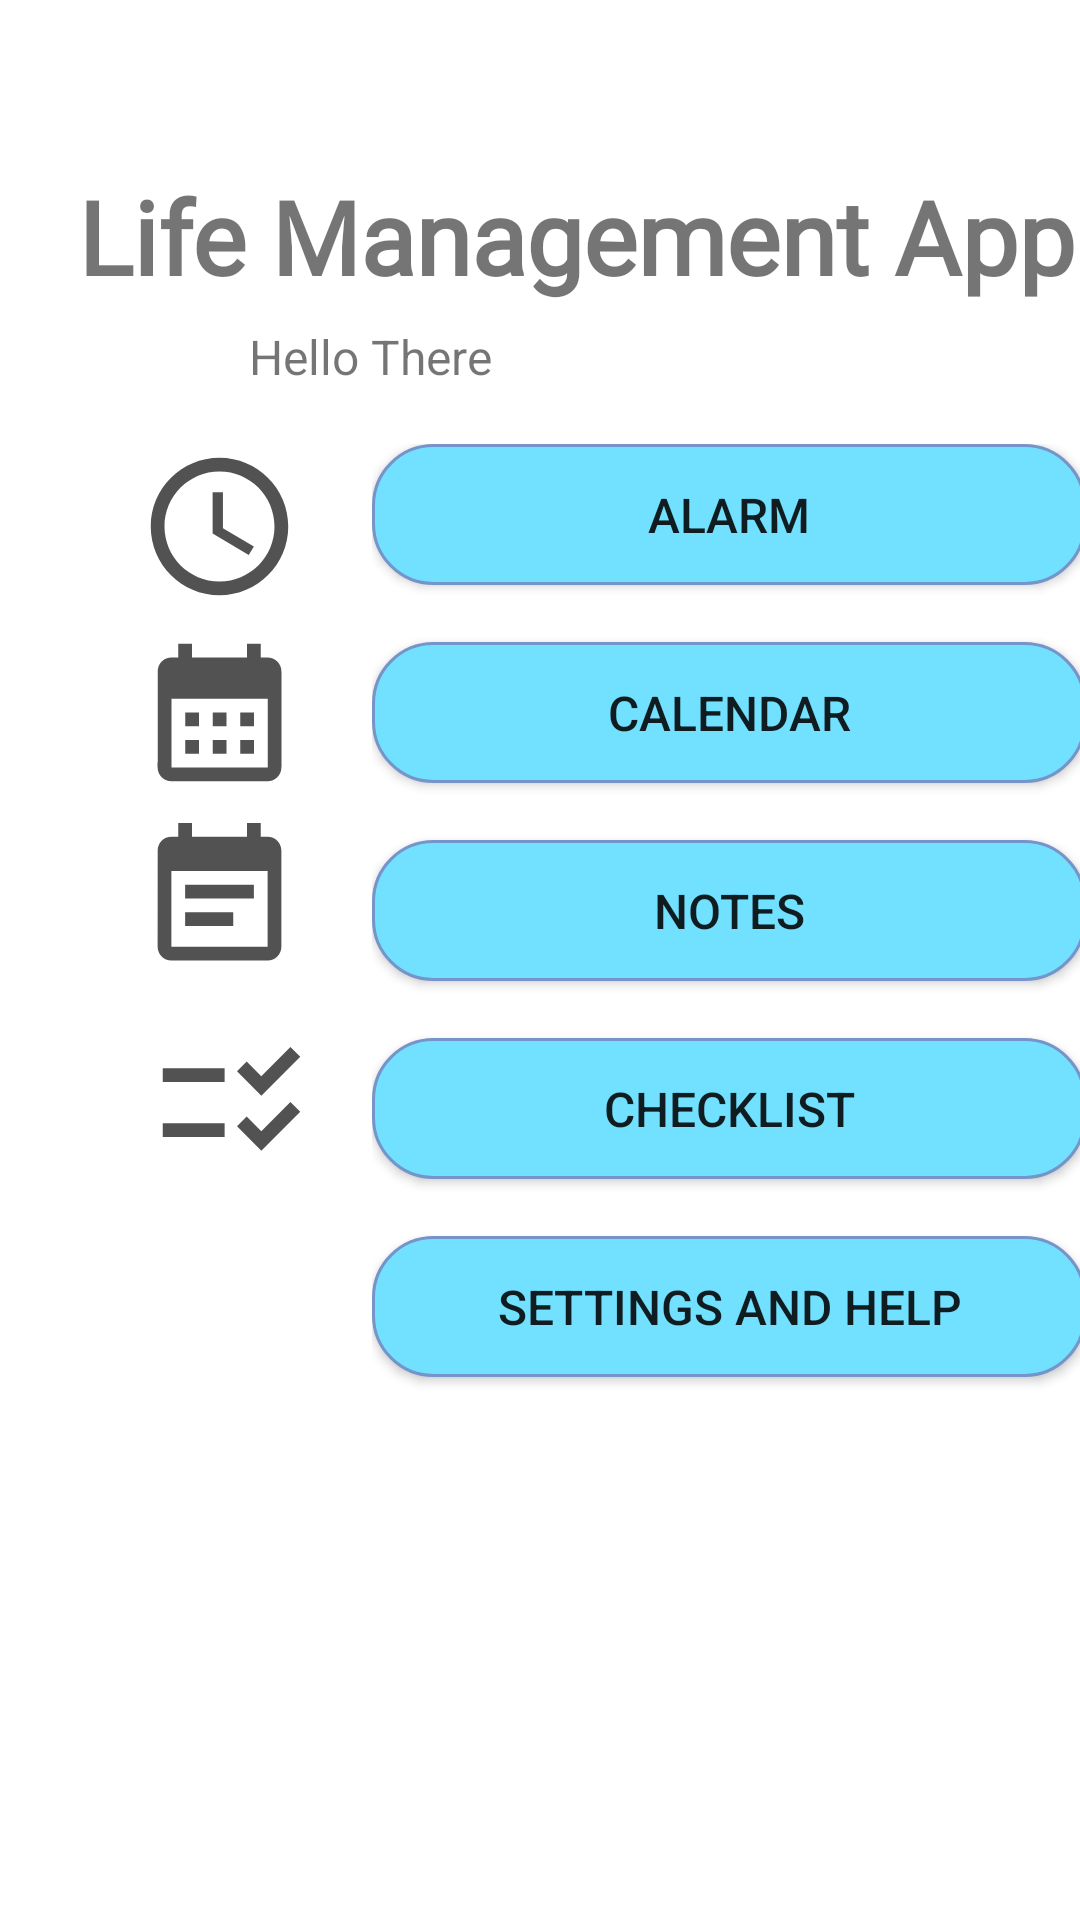

Point at icon controls on the screen. Image size 1080 x 1920, points as [x,y].
access time: [219,526]
event note: [219,892]
